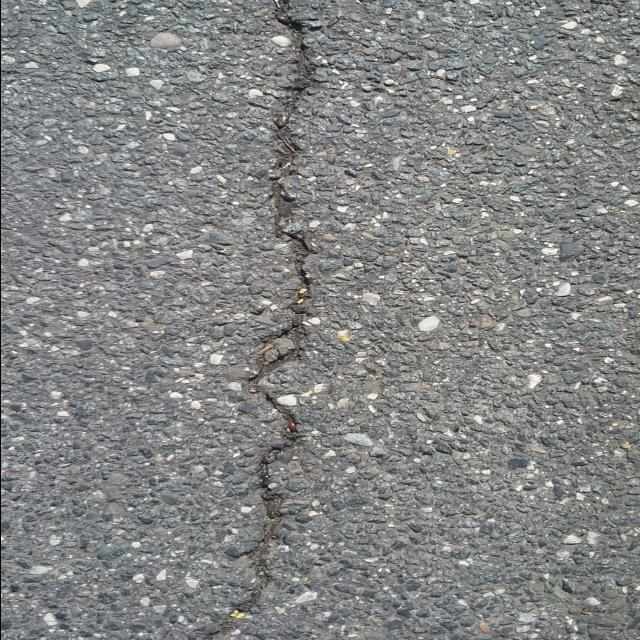Crack: (195, 0, 322, 640)
